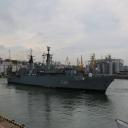Fragata: (7, 46, 120, 97)
